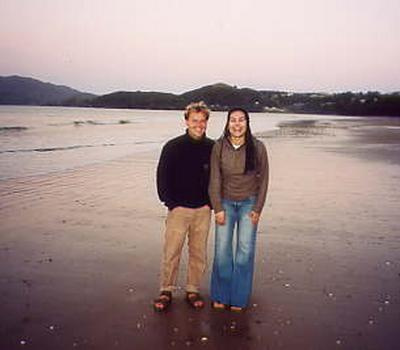person: (154, 102, 218, 312), (207, 109, 270, 311)
